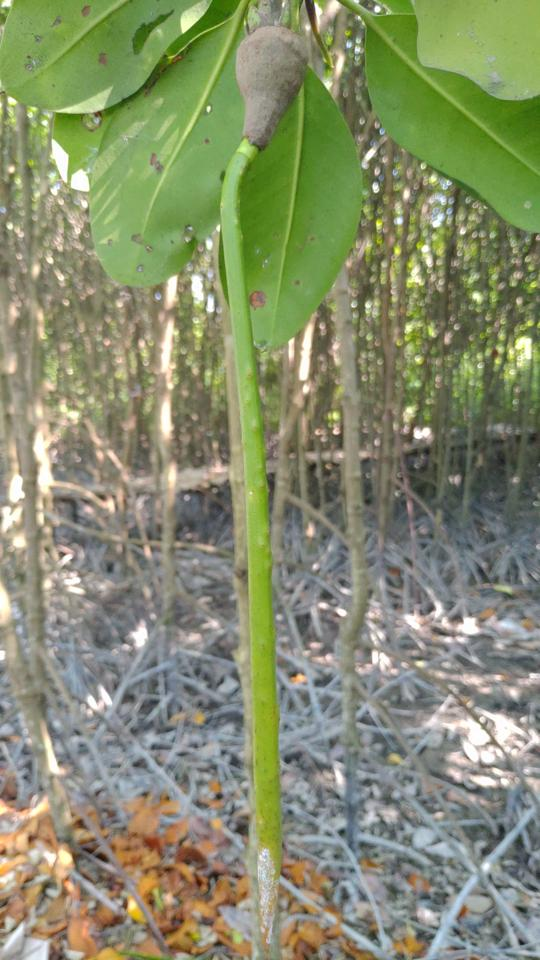setengah matang: (218, 8, 330, 949)
